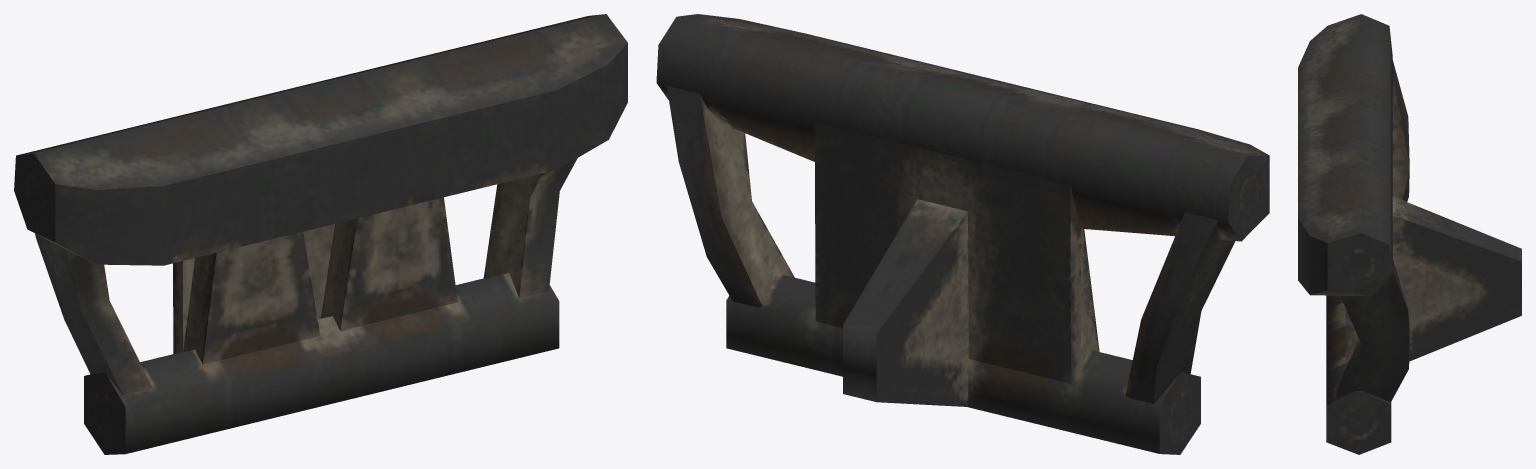
3 renders of one model, left to right at view 1: azimuth 30°, elevation 25°; view 2: azimuth 150°, elevation 25°; view 3: azimuth 270°, elevation 25°, orthographic. The views are drawn at different scales.
Visible parts, largest first — view 1: set_0_group_0; view 2: set_0_group_0; view 3: set_0_group_0.
Part boxes in pixels (x1,y1,x2,y2): set_0_group_0: [14, 14, 627, 454]; set_0_group_0: [656, 14, 1269, 454]; set_0_group_0: [1298, 14, 1521, 454].
Bounding box in the file's own units: 0.305 × 0.1615 × 0.1318.
Materials: 1 (1 with a texture image).
